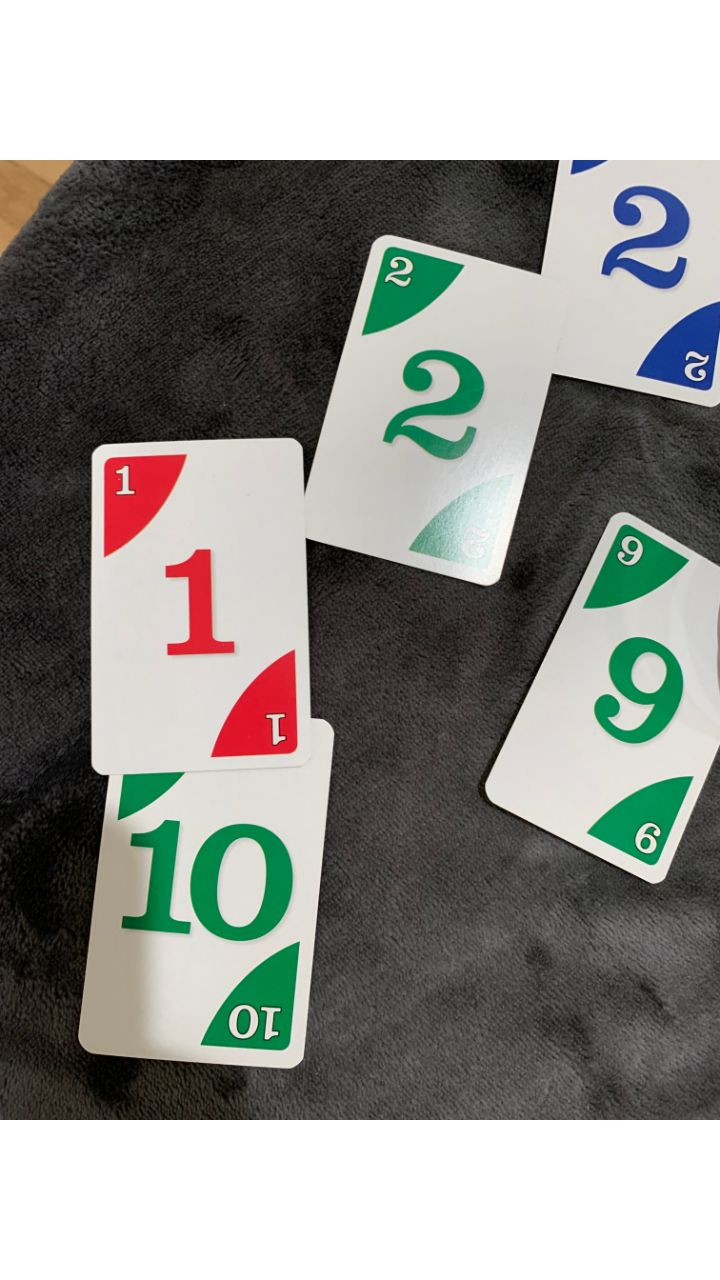nine: (482, 512, 720, 888)
one: (83, 436, 315, 770)
ten: (73, 716, 334, 1075)
two: (305, 233, 564, 589)
